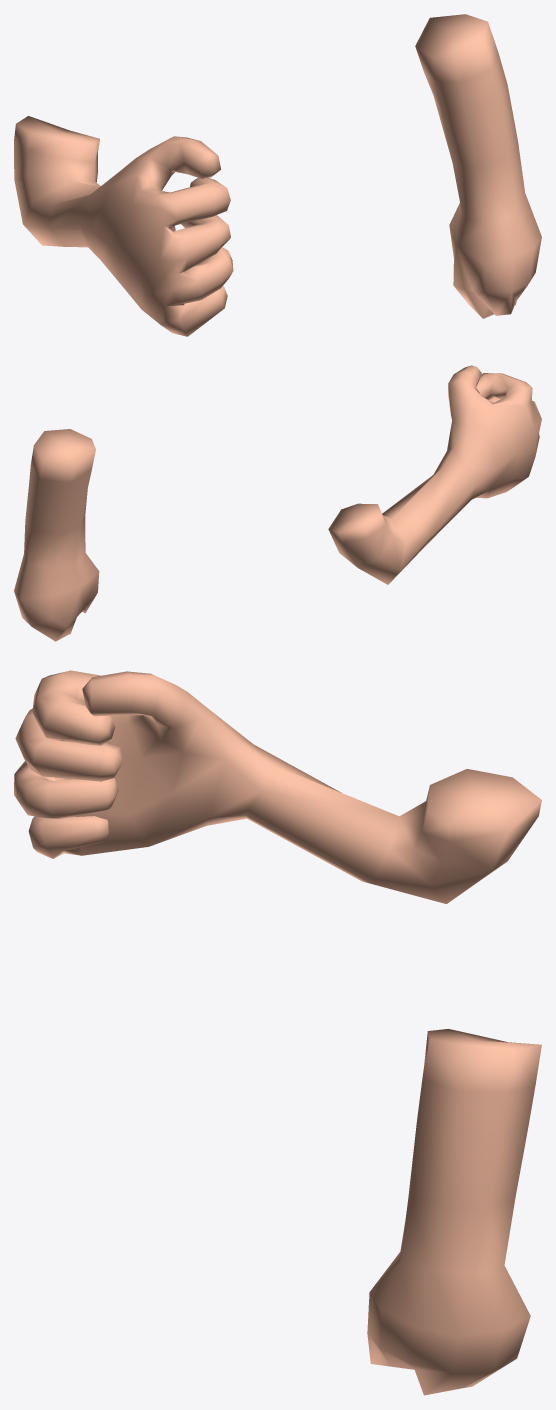
The model's file is AF_M_Arm_03_f.FBX.
3 views of the same model, one above another, from view 1: azimuth 30°, elevation 25°; view 2: azimuth 150°, elevation 25°; view 3: azimuth 270°, elevation 25° (orthographic). The views are drawn at different scales.
Parts seen in each view (by area): view 1: AF_M_Arm_03; view 2: AF_M_Arm_03; view 3: AF_M_Arm_03.
Part boxes in pixels (x1,y1,x2,y2): AF_M_Arm_03: (14, 14, 541, 336); AF_M_Arm_03: (14, 365, 541, 641); AF_M_Arm_03: (14, 670, 541, 1395).
Size of the model in its own units: 528 by 338 by 352.
Materials: 1 (1 with a texture image).
